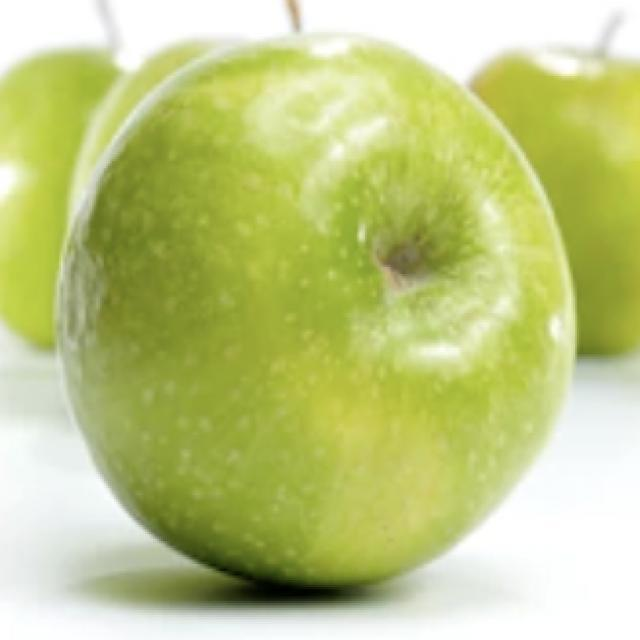Fresh Apple: (58, 33, 567, 575)
